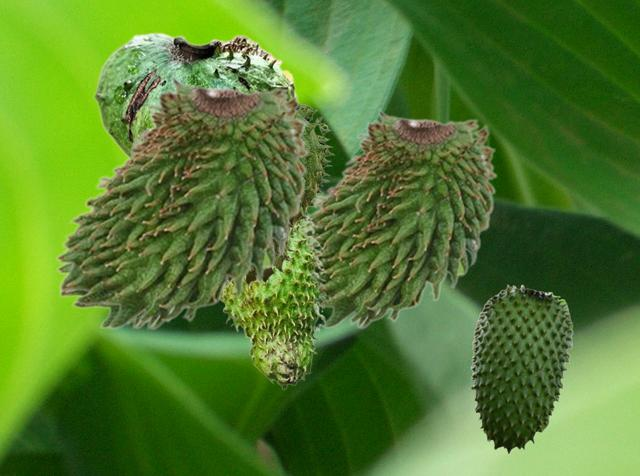guyabano: (54, 74, 309, 329), (306, 107, 497, 328), (55, 126, 231, 328), (93, 32, 299, 156), (229, 103, 334, 289), (220, 215, 327, 389), (470, 284, 572, 453)
